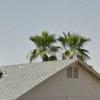Palm tree: (23, 20, 86, 60)
